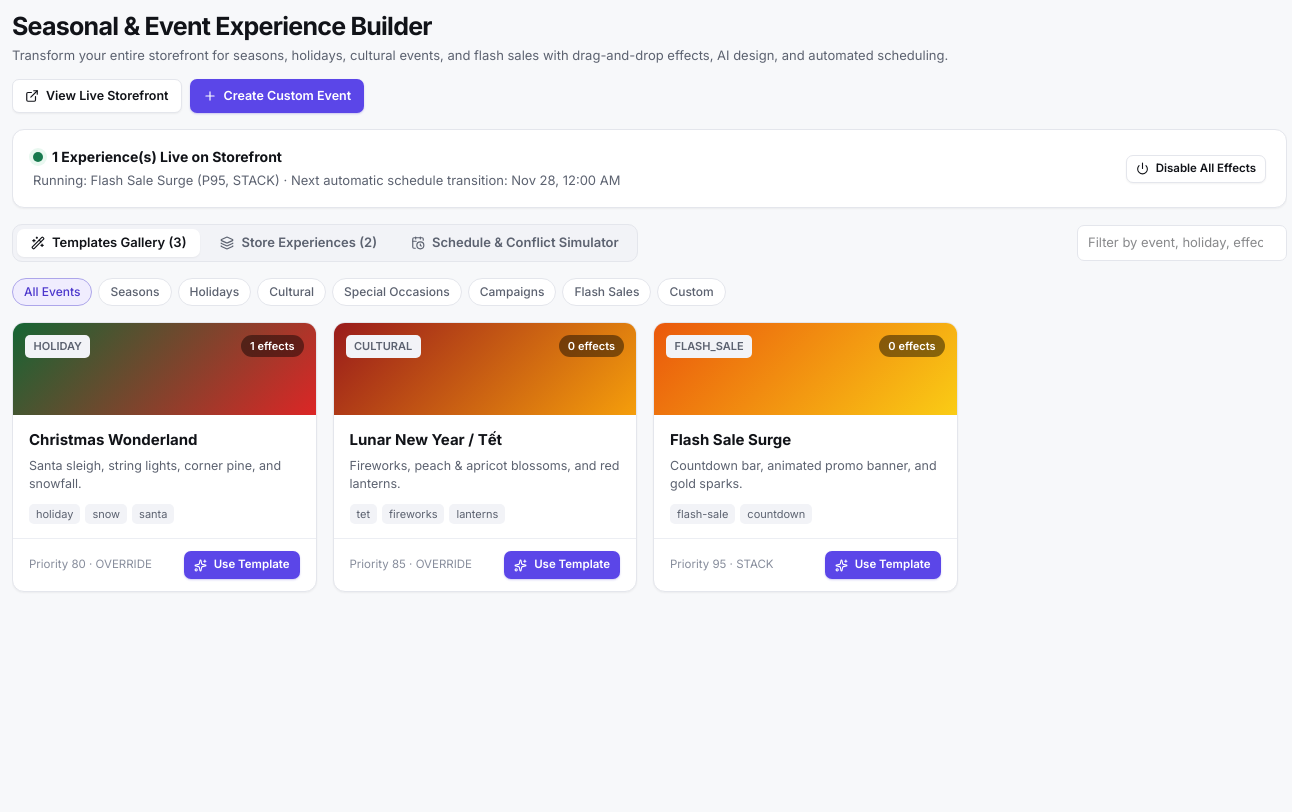
Test: Experience Builder Hub & AI Director UI › renders templates, filters by category & search, creates from template and custom modal
The image size is (1292, 812).
Later steps or results of the test are not shown.
Expected: the heading "Christmas Wonderland" is shown, [29, 430, 198, 449]
Expected: the heading "Lunar New Year / Tết" is shown, [350, 430, 502, 449]
Filter by category pill
What coordinates should you click on to do the following:
click the button "Holidays"
I would click on:
 (214, 292)
Its box is [178, 278, 251, 306].
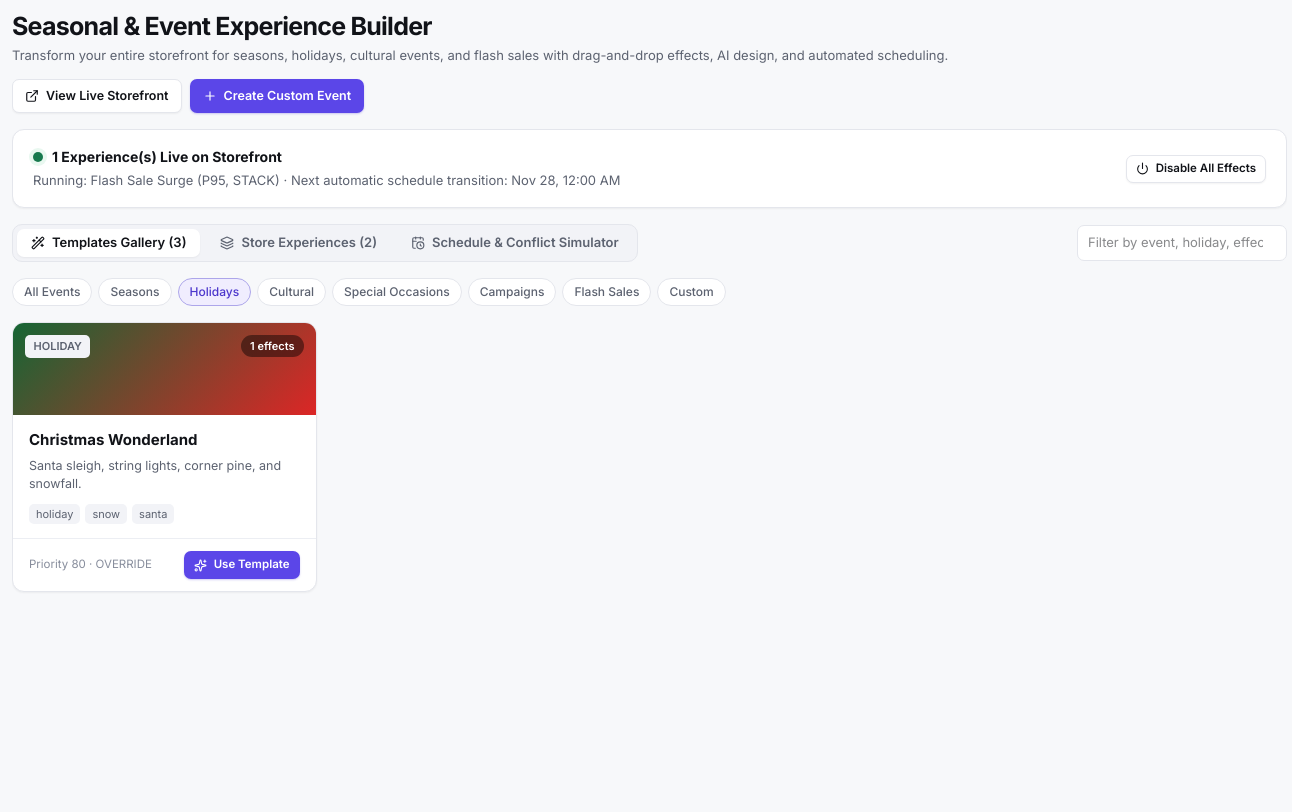
Expected: the heading "Christmas Wonderland" is shown, [29, 430, 198, 449]
Now the heading "Lunar New Year / Tết" is gone
